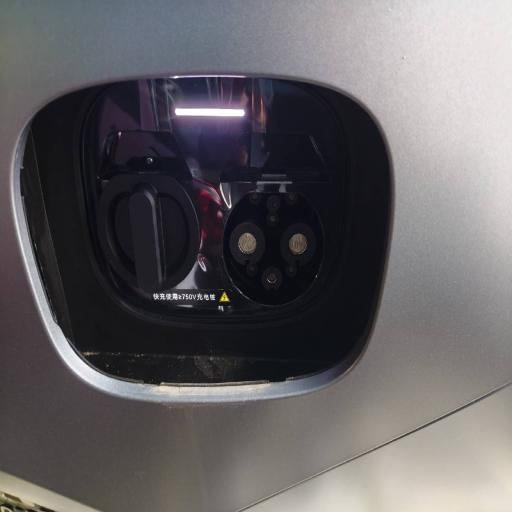DC_hole: (278, 220, 318, 269), (228, 219, 267, 268)
PE: (261, 264, 284, 293)
charging_port: (222, 186, 326, 310)
